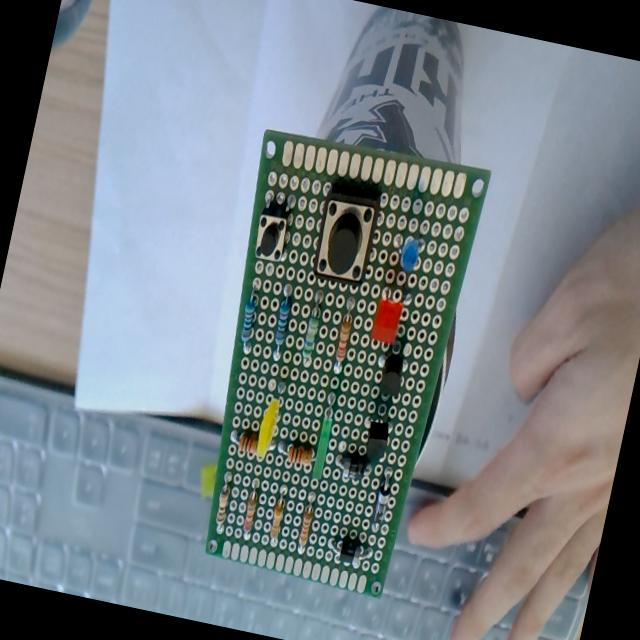diode: (367, 466, 393, 540), (321, 530, 374, 566), (332, 449, 376, 483)
led: (363, 273, 415, 348), (387, 212, 432, 280), (308, 400, 340, 480), (254, 380, 286, 460)
resistor: (263, 279, 297, 362), (293, 288, 327, 368), (209, 460, 241, 536), (234, 279, 266, 355), (328, 300, 359, 376), (291, 492, 319, 560), (260, 494, 288, 556), (237, 477, 264, 538), (274, 437, 316, 472), (225, 428, 261, 461)
switch: (302, 175, 386, 292), (246, 201, 294, 268)
transistor: (368, 342, 410, 402), (360, 399, 398, 461)
